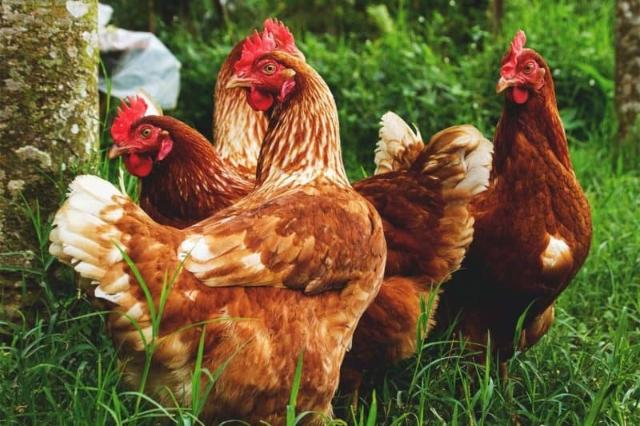Chicken: (45, 24, 387, 426), (108, 93, 474, 377), (376, 29, 593, 364), (212, 17, 308, 177)
